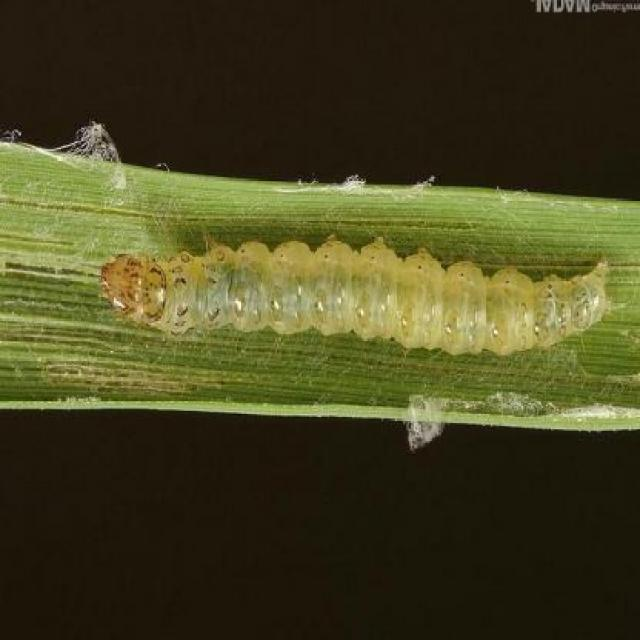leaf-folder: (88, 215, 626, 380)
